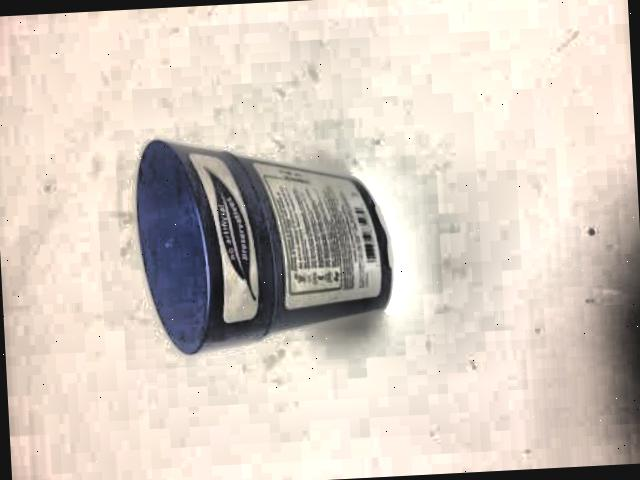Plastic: (121, 110, 410, 371)
